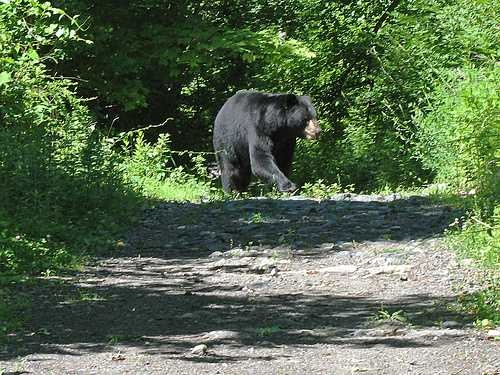bear: (198, 81, 326, 209)
